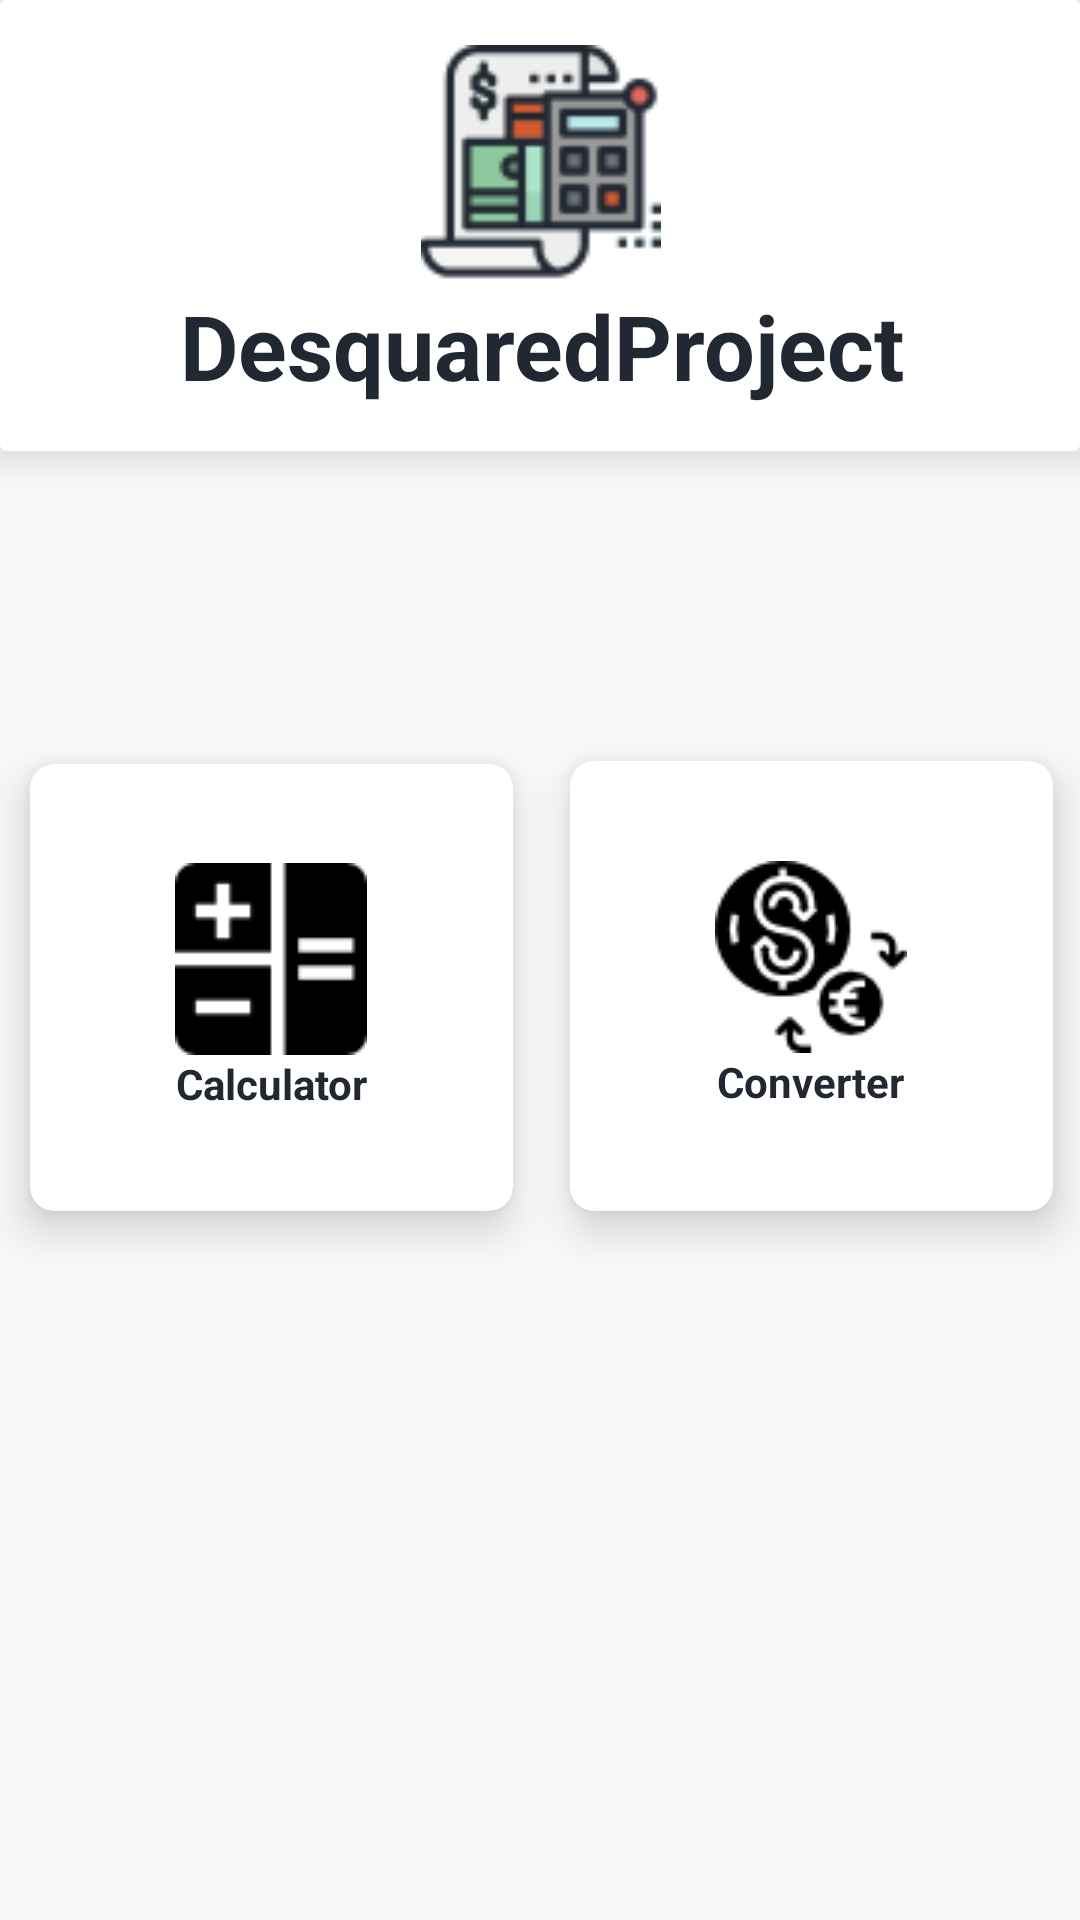

Point at icon controls on the screen. Image size 1080×1920, points as (x,y).
exchange: (811,957)
